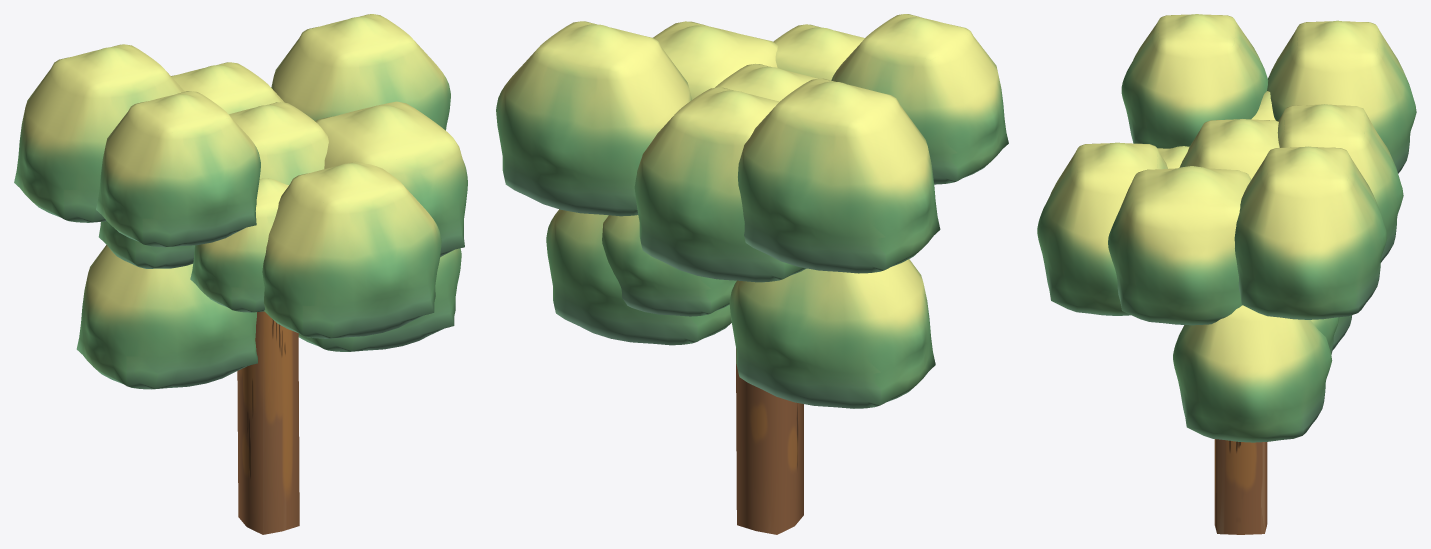
Rendered from Arvore3.fbx.
3 views of the same model, side by side, from view 1: azimuth 30°, elevation 25°; view 2: azimuth 150°, elevation 25°; view 3: azimuth 270°, elevation 25° (orthographic). The views are drawn at different scales.
Parts seen in each view (by area): view 1: ArvoreFolhas.011, ArvoreFolhas.009, ArvoreFolhas.014, ArvoreFolhas.013, ArvoreFolhas.012, ArvoreTronco, ArvoreFolhas.001, ArvoreFolhas.007, ArvoreFolhas, ArvoreFolhas.015, ArvoreFolhas.010, ArvoreFolhas.002; view 2: ArvoreFolhas.013, ArvoreFolhas.012, ArvoreFolhas.014, ArvoreFolhas.010, ArvoreFolhas.009, ArvoreFolhas.015, ArvoreTronco, ArvoreFolhas.005, ArvoreFolhas.001, ArvoreFolhas.011, ArvoreFolhas; view 3: ArvoreFolhas.012, ArvoreFolhas.001, ArvoreFolhas.015, ArvoreFolhas.009, ArvoreFolhas.011, ArvoreFolhas.013, ArvoreFolhas.010, ArvoreTronco, ArvoreFolhas, ArvoreFolhas.007, ArvoreFolhas.005.
Part boxes in pixels (x1,y1,x2,y2): ArvoreFolhas.011: (262, 161, 441, 338); ArvoreFolhas.009: (96, 91, 260, 247); ArvoreFolhas.014: (76, 245, 257, 389); ArvoreFolhas.013: (14, 44, 184, 222); ArvoreFolhas.012: (271, 14, 450, 130); ArvoreTronco: (237, 311, 299, 534); ArvoreFolhas.001: (315, 101, 467, 256); ArvoreFolhas.007: (190, 178, 288, 312); ArvoreFolhas: (229, 102, 328, 185); ArvoreFolhas.015: (298, 248, 461, 351); ArvoreFolhas.010: (171, 62, 284, 114); ArvoreFolhas.002: (98, 221, 194, 268); ArvoreFolhas.013: (738, 78, 940, 273); ArvoreFolhas.012: (496, 21, 691, 216); ArvoreFolhas.014: (729, 259, 935, 408); ArvoreFolhas.010: (634, 87, 806, 282); ArvoreFolhas.009: (831, 14, 1008, 184); ArvoreFolhas.015: (546, 209, 731, 345); ArvoreTronco: (736, 348, 803, 534); ArvoreFolhas.005: (602, 215, 736, 316); ArvoreFolhas.001: (653, 21, 778, 99); ArvoreFolhas.011: (773, 24, 864, 80); ArvoreFolhas: (715, 63, 817, 101); ArvoreFolhas.012: (1234, 146, 1387, 319); ArvoreFolhas.001: (1108, 166, 1251, 325); ArvoreFolhas.015: (1173, 305, 1332, 442); ArvoreFolhas.009: (1121, 14, 1268, 148); ArvoreFolhas.011: (1037, 142, 1168, 315); ArvoreFolhas.013: (1267, 20, 1416, 173); ArvoreFolhas.010: (1277, 104, 1403, 262); ArvoreTronco: (1214, 439, 1267, 534); ArvoreFolhas: (1179, 119, 1279, 179); ArvoreFolhas.007: (1157, 146, 1189, 168); ArvoreFolhas.005: (1311, 317, 1338, 354).
Bounding box in the file's own units: 10566 × 11644 × 8767.
